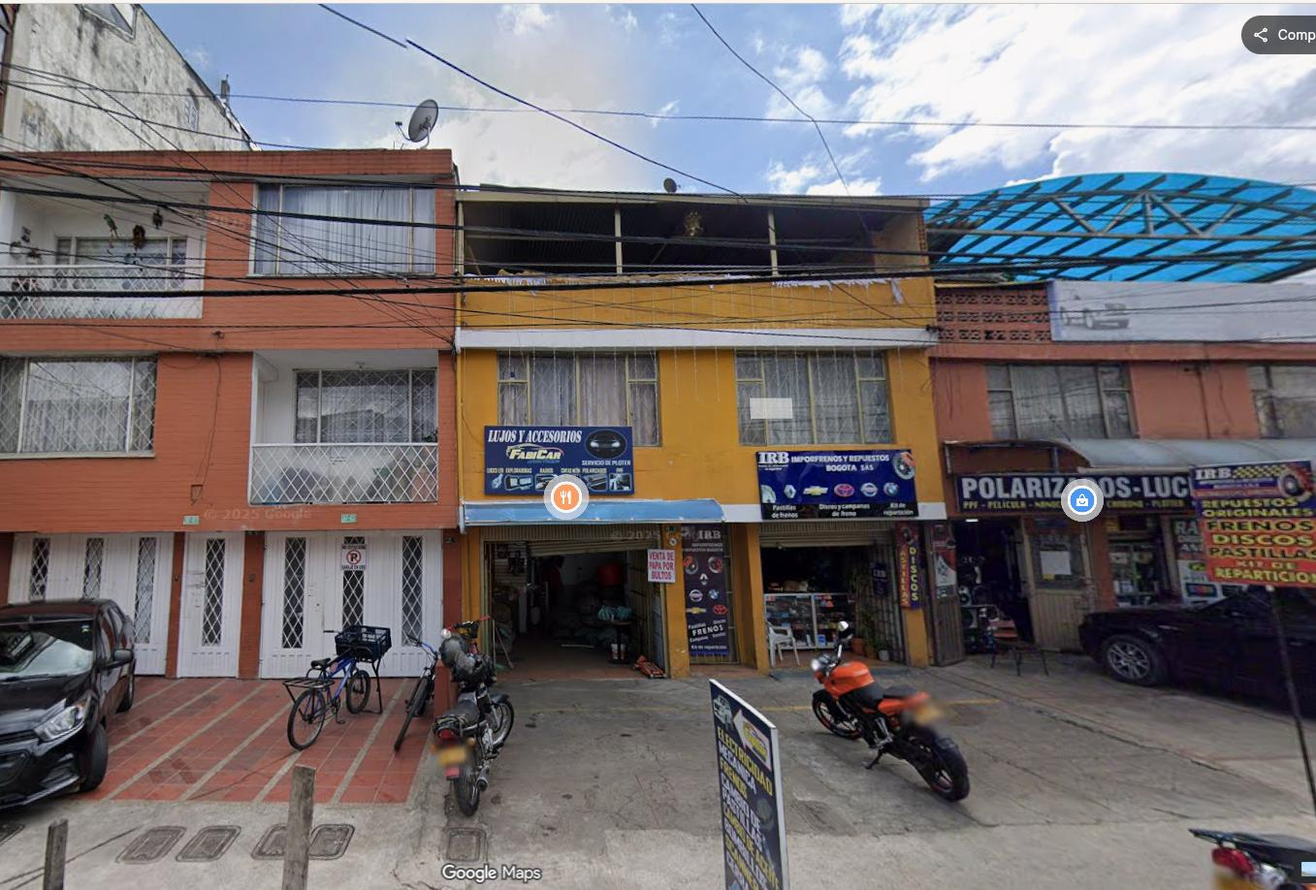casa: (455, 189, 952, 678), (0, 150, 460, 676)
